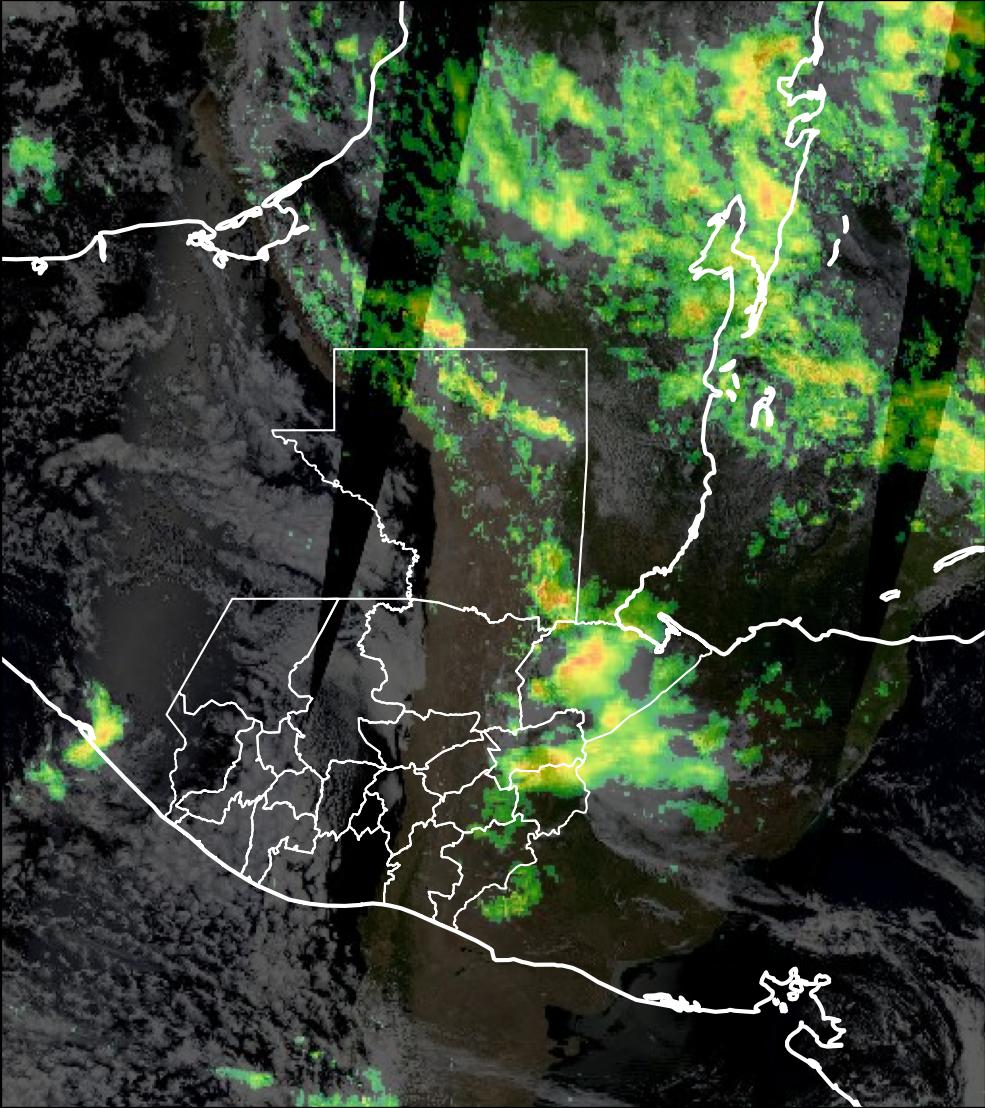precipitacion: (562, 631, 626, 706)
